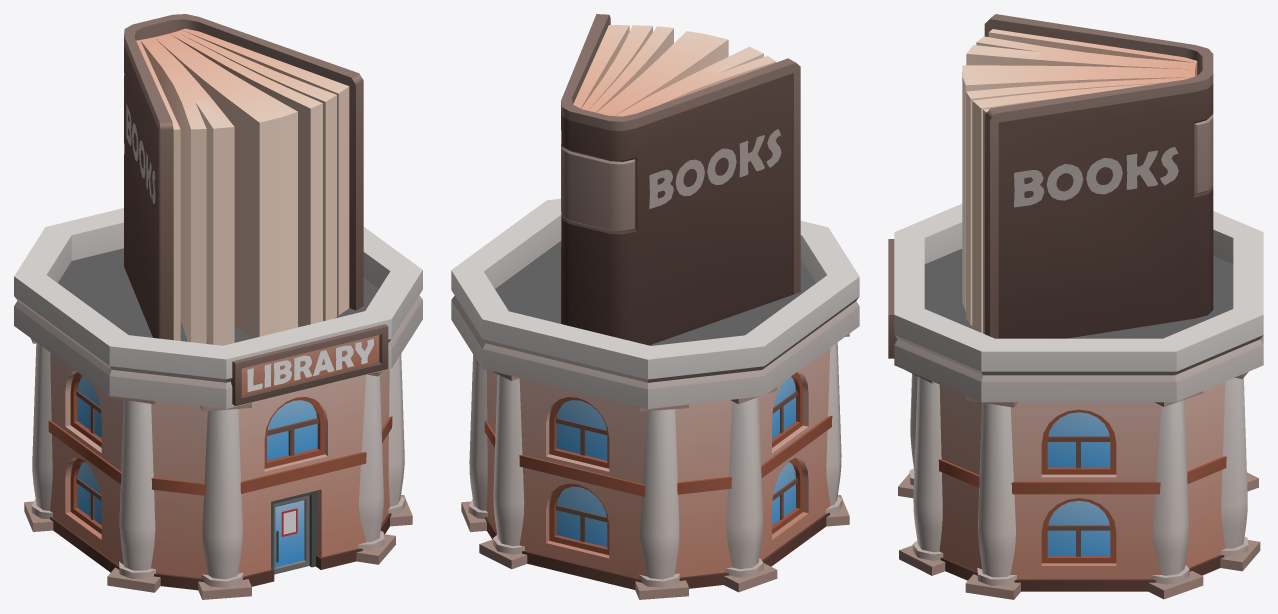
File: library_001.glb
The picture shows the model from 3 angles, left to right: view 1: azimuth 30°, elevation 25°; view 2: azimuth 150°, elevation 25°; view 3: azimuth 270°, elevation 25°; orthographic projection. The views are drawn at different scales.
Parts seen in each view (by area): view 1: library_001; view 2: library_001; view 3: library_001.
Part boxes in pixels (x1,y1,x2,y2): library_001: [14, 14, 422, 599]; library_001: [451, 14, 859, 599]; library_001: [888, 14, 1263, 599].
Size of the model in its own units: 9.91 by 13.61 by 10.07.
1 material, 1 textured.
